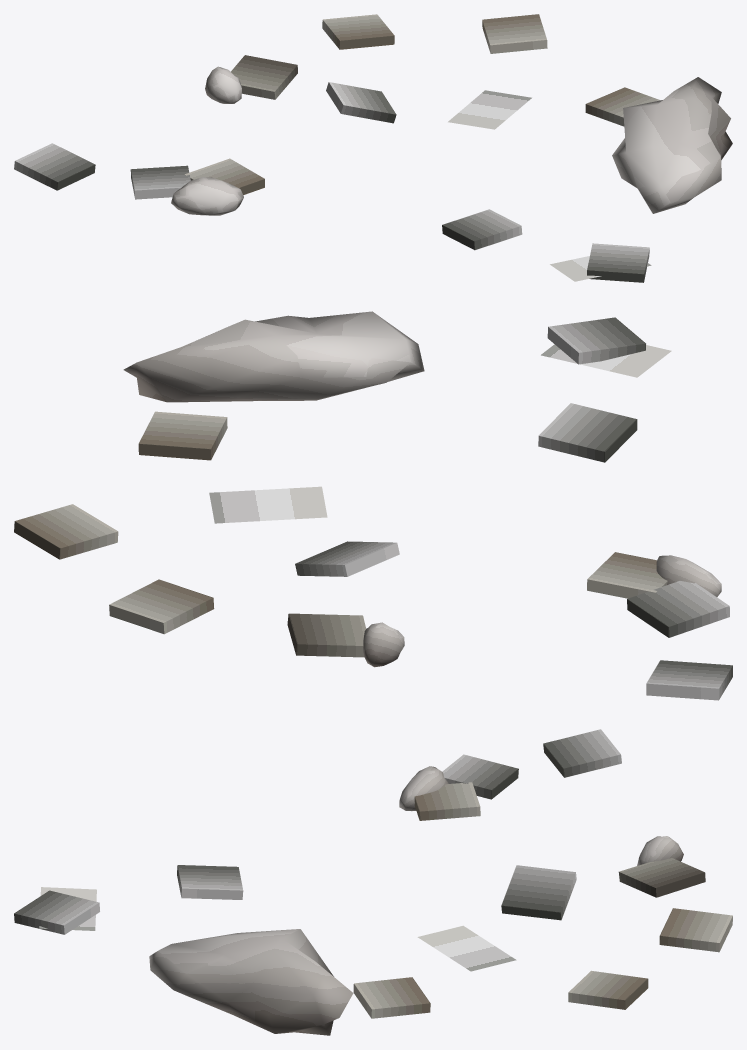
The model's file is DL_Obj_Level3_Rubble5.fbx.
3 views of the same model, one above another, from view 1: azimuth 30°, elevation 25°; view 2: azimuth 150°, elevation 25°; view 3: azimuth 270°, elevation 25° (orthographic). The views are drawn at different scales.
Visible parts, largest first — view 1: Level3_Rubble5; view 2: Level3_Rubble5; view 3: Level3_Rubble5.
Boxes of the visible parts, x1,y1,x2,y2 form: Level3_Rubble5: [14, 14, 732, 282]; Level3_Rubble5: [14, 311, 732, 700]; Level3_Rubble5: [14, 729, 732, 1035].
Size of the model in its own units: 229 by 24.49 by 228.
